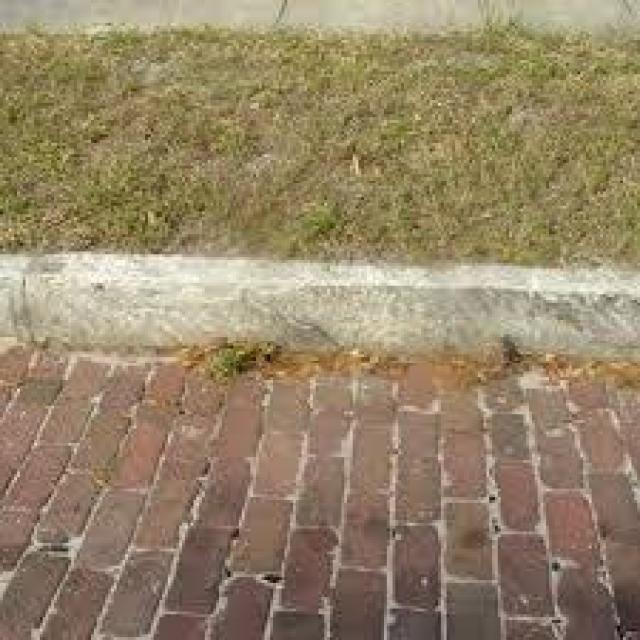curb: (1, 258, 640, 373)
